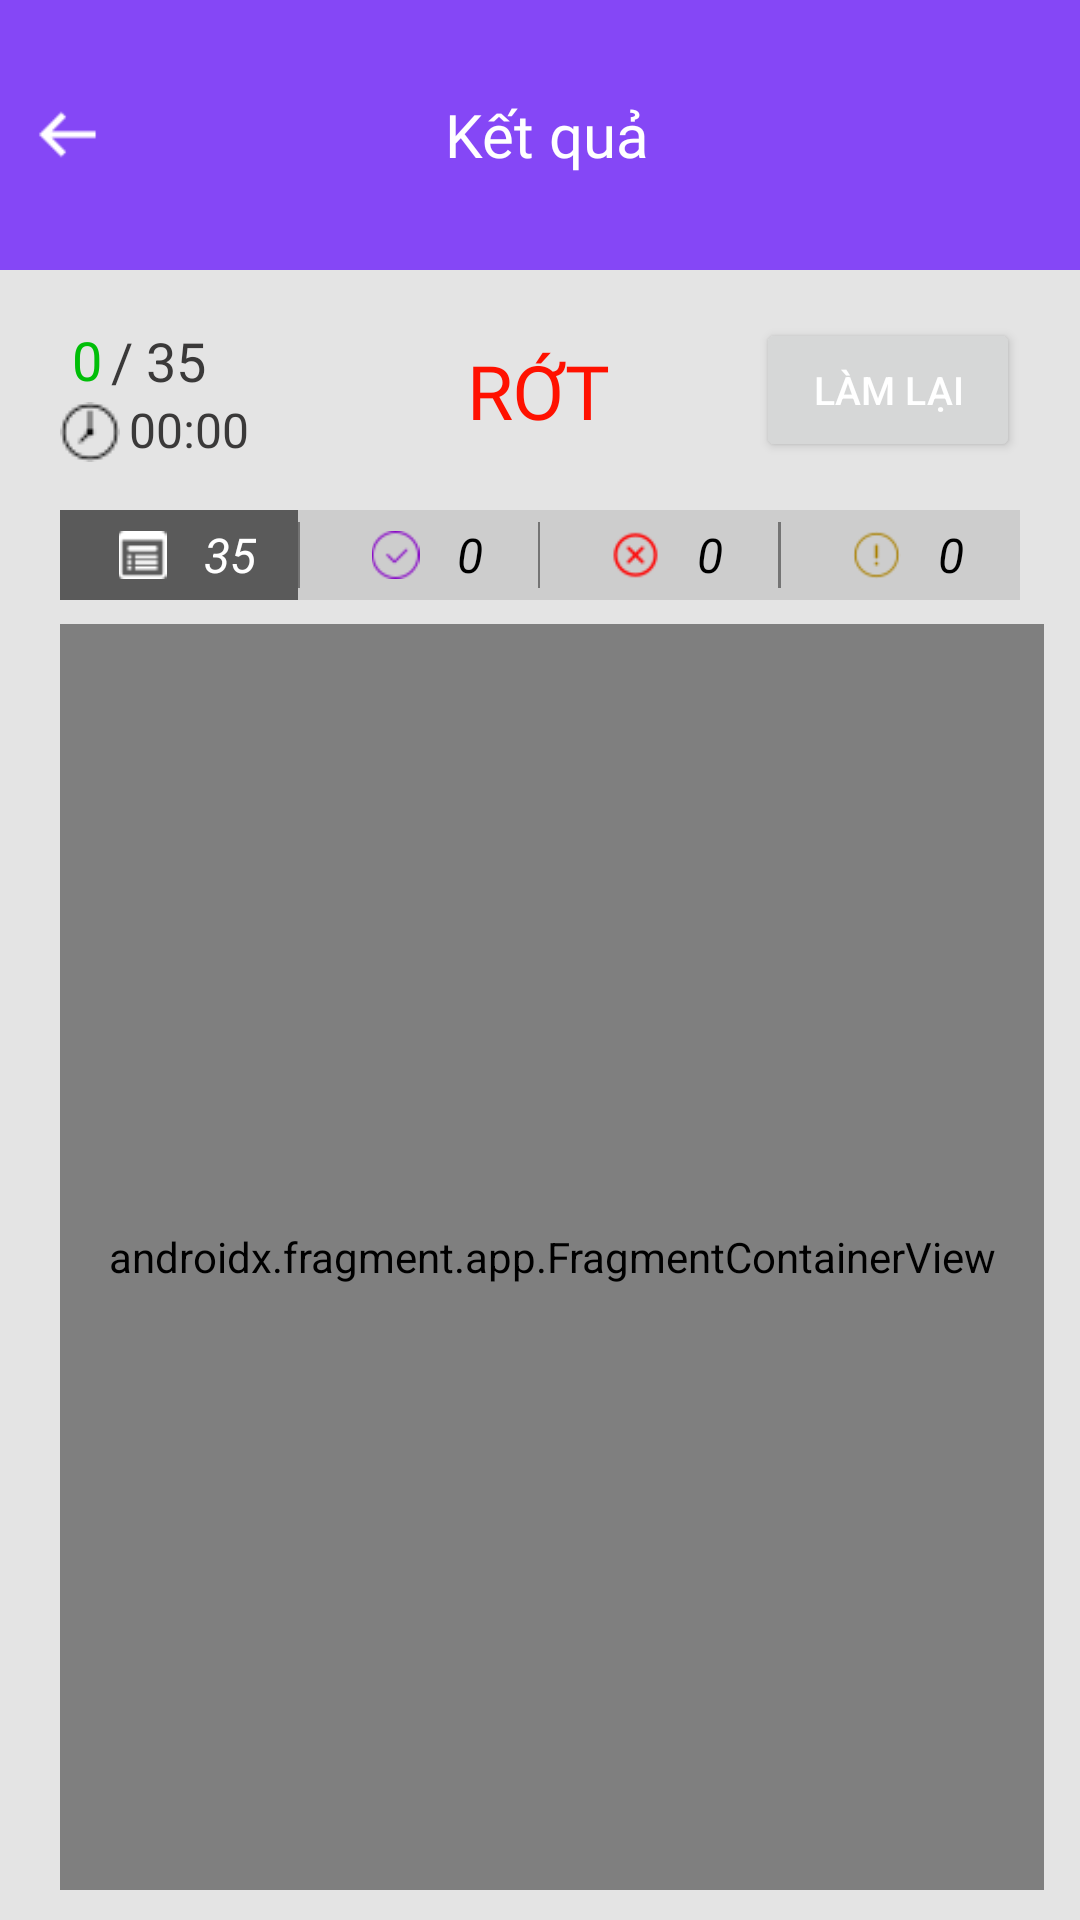

Named icons in this screenshot (1080px x 1920px) and their bounding boxes, (x1, y1, x2, y2):
back: (39, 112, 96, 157)
clock: (60, 402, 120, 462)
list: (119, 531, 167, 579)
total false: (613, 532, 658, 578)
total true: (372, 531, 420, 579)
total warning: (854, 532, 899, 578)
